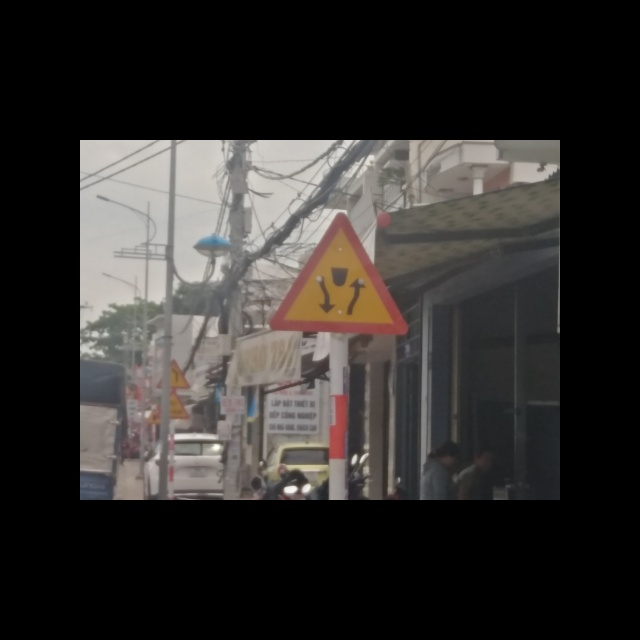Đường đôi: (268, 212, 410, 338)
